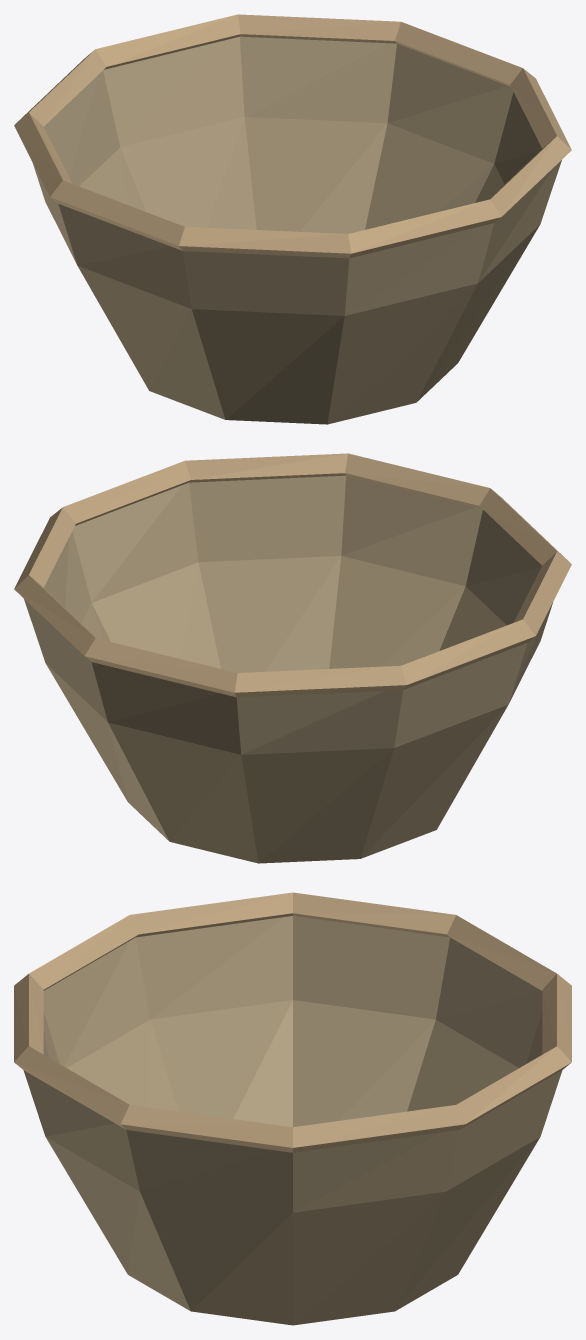
The model's file is basket.glb.
3 views of the same model, one above another, from view 1: azimuth 30°, elevation 25°; view 2: azimuth 150°, elevation 25°; view 3: azimuth 270°, elevation 25° (orthographic). The views are drawn at different scales.
Parts seen in each view (by area): view 1: basket; view 2: basket; view 3: basket.
Part boxes in pixels (x1=…): basket: x1=14, y1=14, x2=571, y2=424; basket: x1=14, y1=453, x2=571, y2=863; basket: x1=14, y1=892, x2=571, y2=1325.
Size of the model in its own units: 0.676 by 0.308 by 0.6429.
